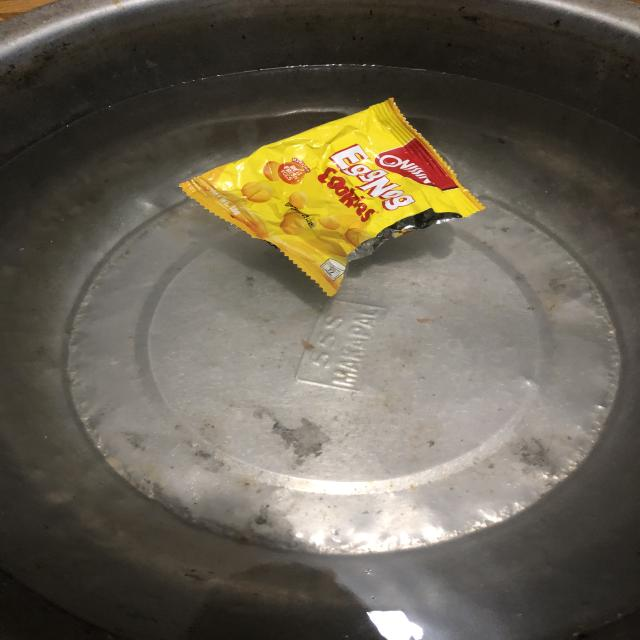Plastic Wrapper: (180, 98, 484, 295)
